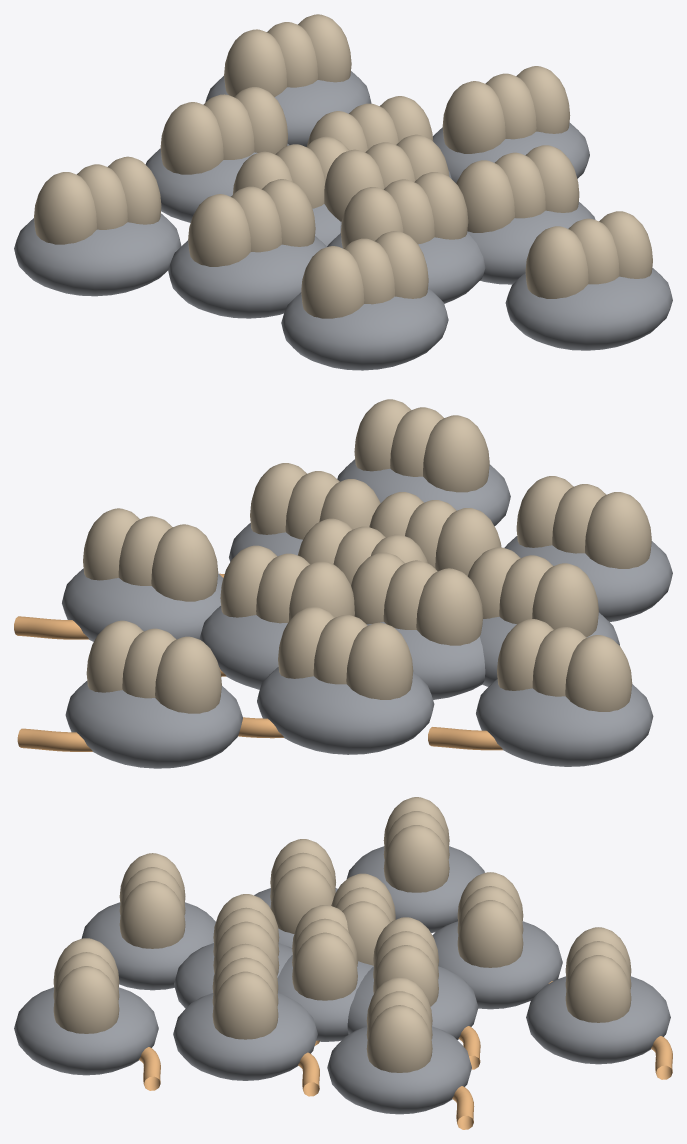
File: bio_acid_mat_11_near.glb
The picture shows the model from 3 angles, top to bottom: view 1: azimuth 30°, elevation 25°; view 2: azimuth 150°, elevation 25°; view 3: azimuth 270°, elevation 25°; orthographic projection. The views are drawn at different scales.
Parts seen in each view (by area): view 1: Microbial cushion.007, Microbial cushion.010, Microbial cushion.009, Reaction vesicle.024, Reaction vesicle.030, Reaction vesicle.021, Reaction vesicle.012, Reaction vesicle.027, Reaction vesicle.018, Microbial cushion.004, Reaction vesicle.033, Reaction vesicle.015 (+10 smaller); view 2: Microbial cushion.011, Microbial cushion.006, Microbial cushion.009, Reaction vesicle.033, Reaction vesicle.030, Reaction vesicle.021, Reaction vesicle.018, Reaction vesicle.024, Reaction vesicle.027, Reaction vesicle.003, Reaction vesicle.012, Reaction vesicle.009 (+14 smaller); view 3: Microbial cushion.011, Microbial cushion.008, Microbial cushion.010, Microbial cushion.005, Microbial cushion.006, Reaction vesicle.015, Reaction vesicle.030, Reaction vesicle.018, Reaction vesicle.033, Reaction vesicle.021, Reaction vesicle.024, Reaction vesicle.027 (+15 smaller).
Part boxes in pixels (left/top/right/bottom): Microbial cushion.007: left=281, top=287, right=448, bottom=370; Microbial cushion.010: left=505, top=268, right=672, bottom=350; Microbial cushion.009: left=14, top=213, right=181, bottom=296; Reaction vesicle.024: left=442, top=66, right=570, bottom=153; Reaction vesicle.030: left=525, top=211, right=652, bottom=298; Reaction vesicle.021: left=301, top=231, right=428, bottom=318; Reaction vesicle.012: left=188, top=179, right=315, bottom=266; Reaction vesicle.027: left=34, top=156, right=161, bottom=244; Reaction vesicle.018: left=160, top=87, right=287, bottom=174; Microbial cushion.004: left=168, top=236, right=326, bottom=318; Reaction vesicle.033: left=224, top=14, right=351, bottom=97; Reaction vesicle.015: left=456, top=145, right=579, bottom=232; Microbial cushion.011: left=65, top=681, right=242, bottom=768; Microbial cushion.006: left=257, top=667, right=434, bottom=754; Microbial cushion.009: left=476, top=679, right=653, bottom=766; Reaction vesicle.033: left=86, top=620, right=221, bottom=713; Reaction vesicle.030: left=354, top=399, right=489, bottom=492; Reaction vesicle.021: left=516, top=476, right=651, bottom=568; Reaction vesicle.018: left=278, top=607, right=413, bottom=699; Reaction vesicle.024: left=83, top=508, right=218, bottom=601; Reaction vesicle.027: left=497, top=619, right=632, bottom=711; Reaction vesicle.003: left=351, top=552, right=483, bottom=645; Reaction vesicle.012: left=467, top=547, right=598, bottom=637; Reaction vesicle.009: left=220, top=545, right=354, bottom=623; Microbial cushion.011: left=526, top=976, right=670, bottom=1064; Microbial cushion.008: left=327, top=1026, right=471, bottom=1114; Microbial cushion.010: left=14, top=987, right=158, bottom=1075; Microbial cushion.005: left=173, top=993, right=317, bottom=1080; Microbial cushion.006: left=432, top=921, right=562, bottom=1009; Reaction vesicle.015: left=212, top=943, right=278, bottom=1039; Reaction vesicle.030: left=53, top=938, right=119, bottom=1033; Reaction vesicle.018: left=457, top=872, right=523, bottom=967; Reaction vesicle.033: left=565, top=927, right=631, bottom=1022; Reaction vesicle.021: left=119, top=853, right=185, bottom=948; Reaction vesicle.024: left=366, top=977, right=432, bottom=1072; Reaction vesicle.027: left=383, top=797, right=449, bottom=892.
Size of the model in its own units: 1.83 by 0.36 by 2.
